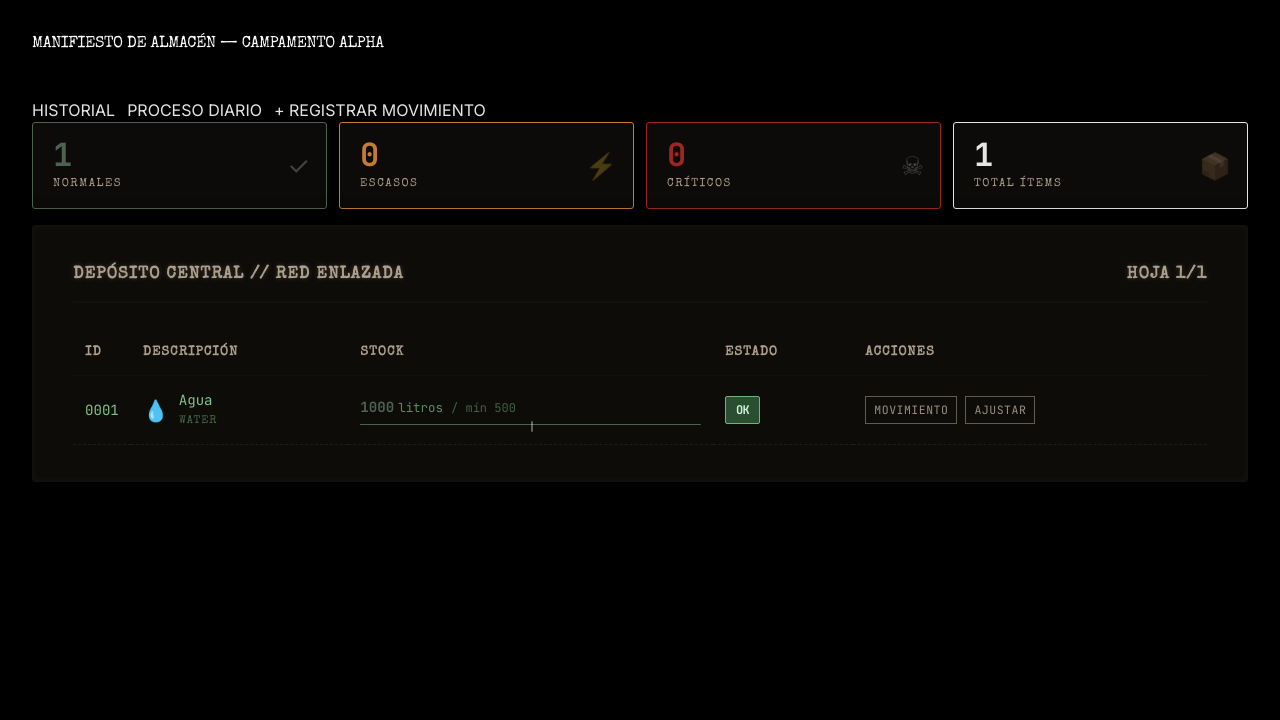
Test: Admin → Resources › adjust stock min (regression: resource_id from row, NUMERIC) › rejects negative stock values
Click the button "AJUSTAR": (1000, 410) [965, 396, 1035, 424]
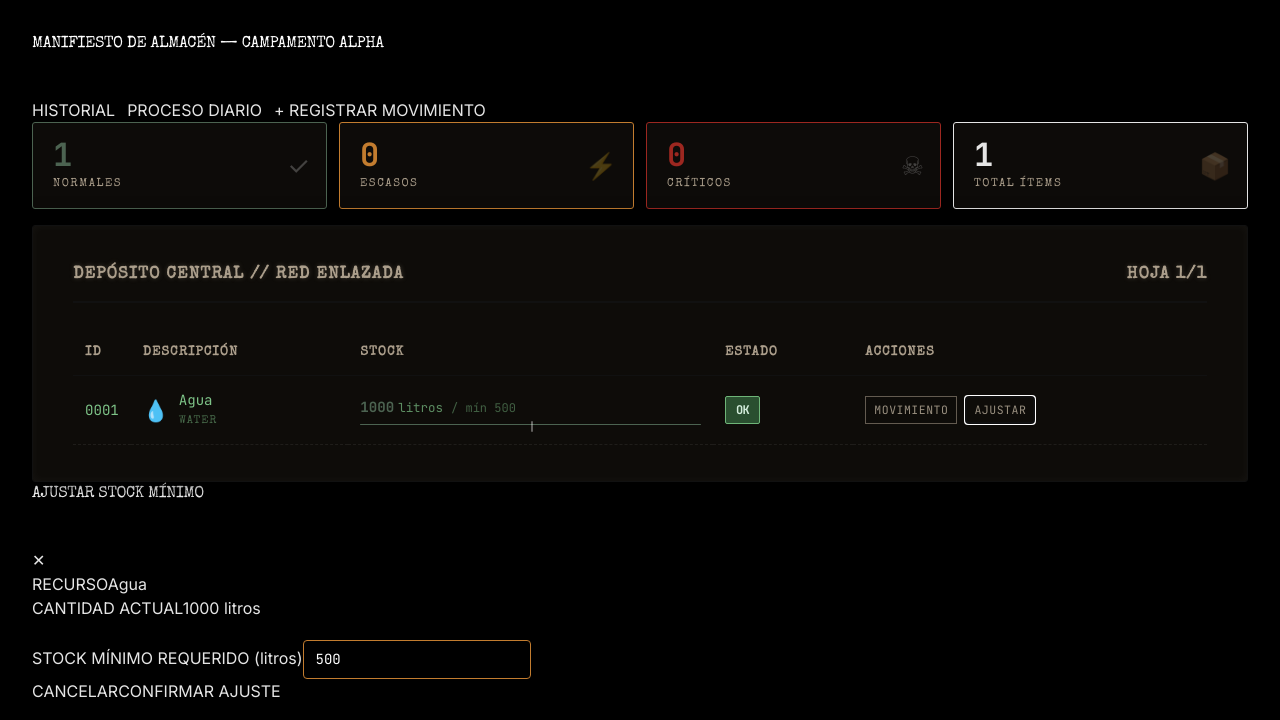
Replace the text in the number field with "-5": (416, 660) [302, 640, 530, 679]
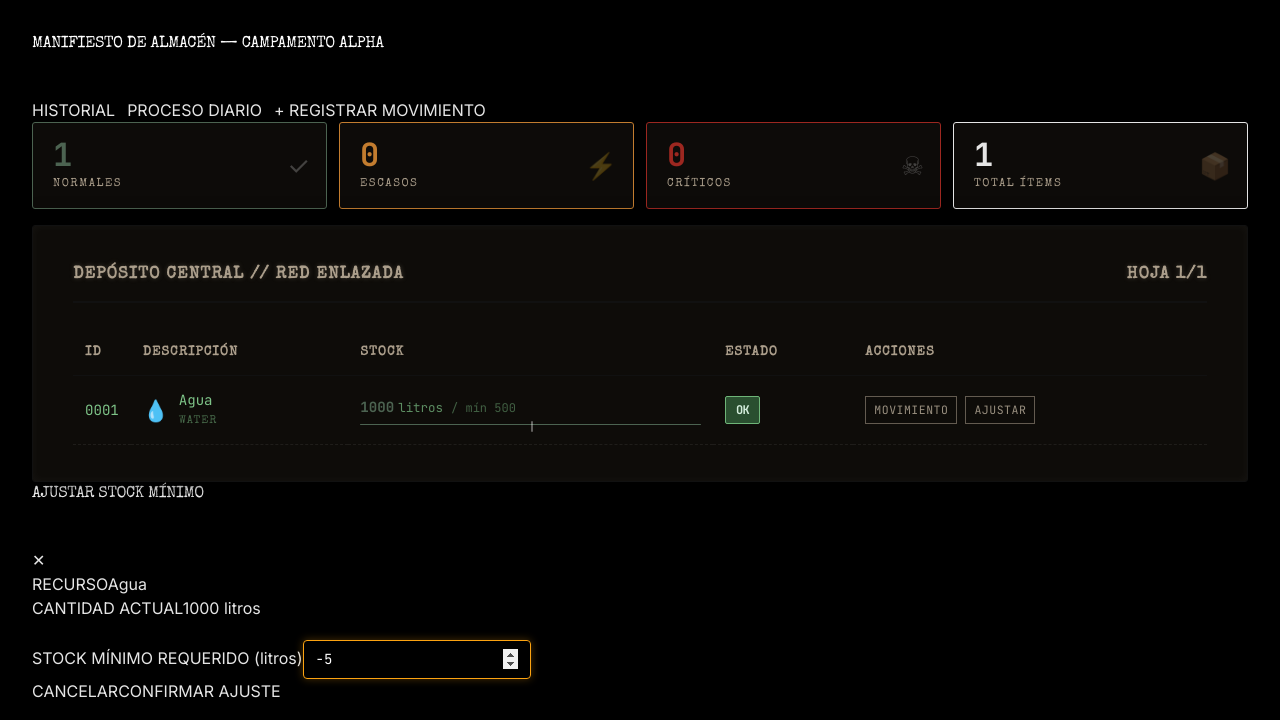
Click the button "CONFIRMAR AJUSTE": (199, 691) [118, 679, 281, 703]
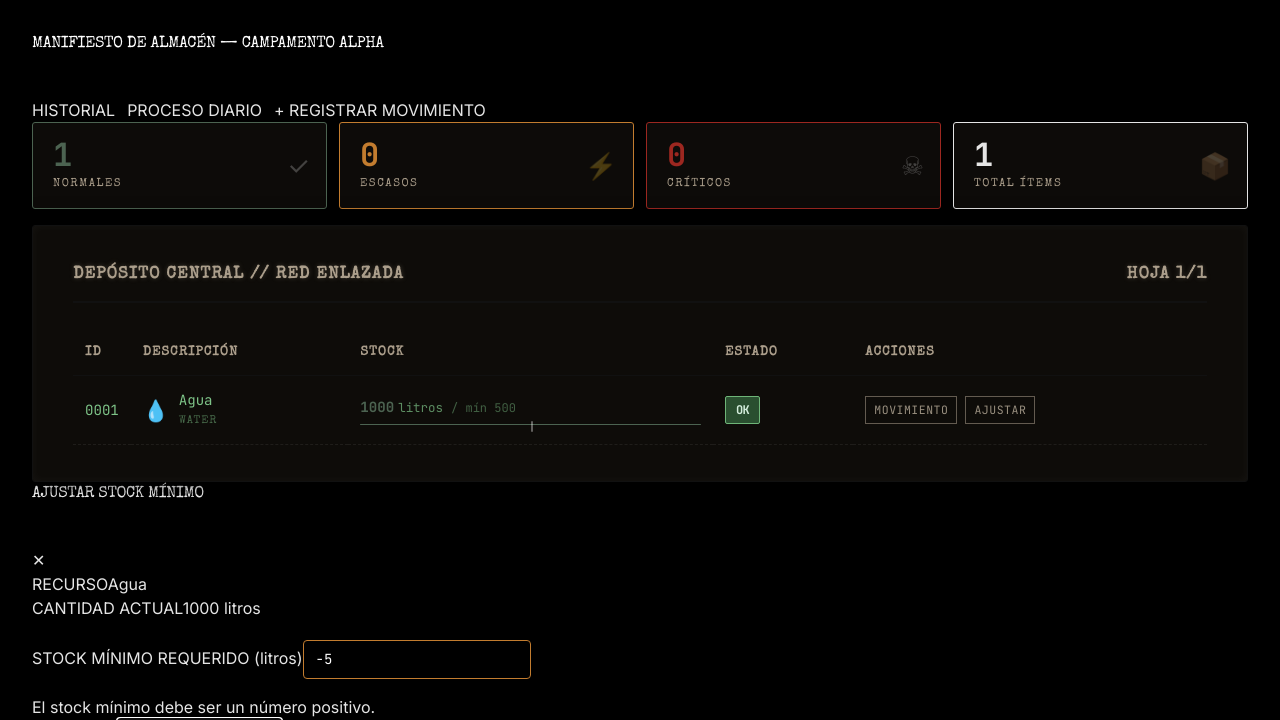
Expected: the text "El stock mínimo debe ser un número positivo." is shown, [32, 697, 375, 717]
